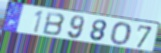1: (33, 11, 44, 35)
7: (135, 25, 153, 49)
8: (89, 20, 108, 42)
9: (66, 15, 87, 40)
B: (42, 11, 67, 37)
O: (109, 22, 132, 46)
